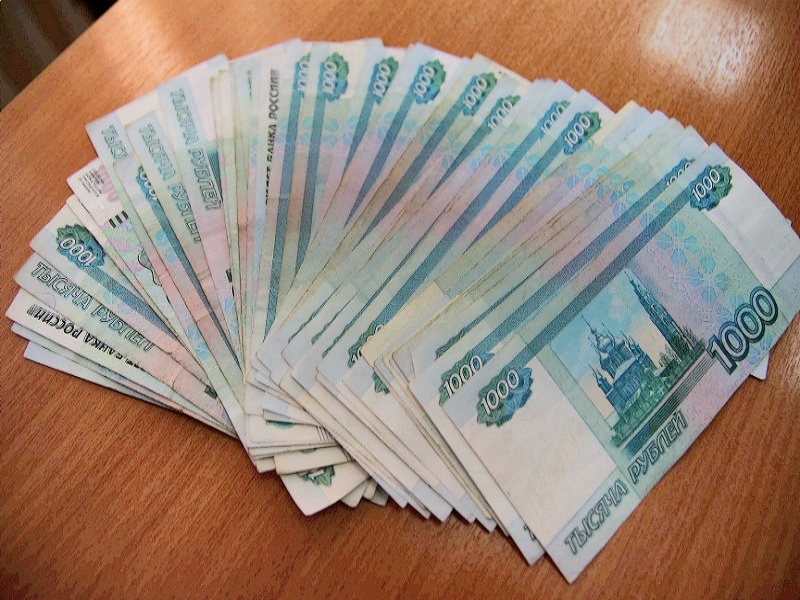cash: (7, 39, 800, 582)
